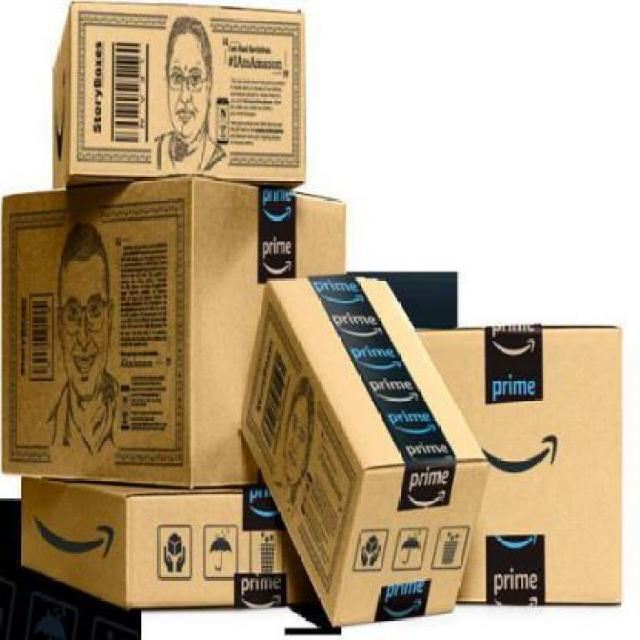box: (0, 181, 344, 491), (244, 276, 483, 624), (422, 328, 624, 607), (50, 4, 314, 188), (16, 471, 314, 612)
